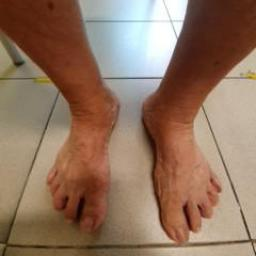Dorsal View -Both Feet-: (12, 31, 250, 251)
